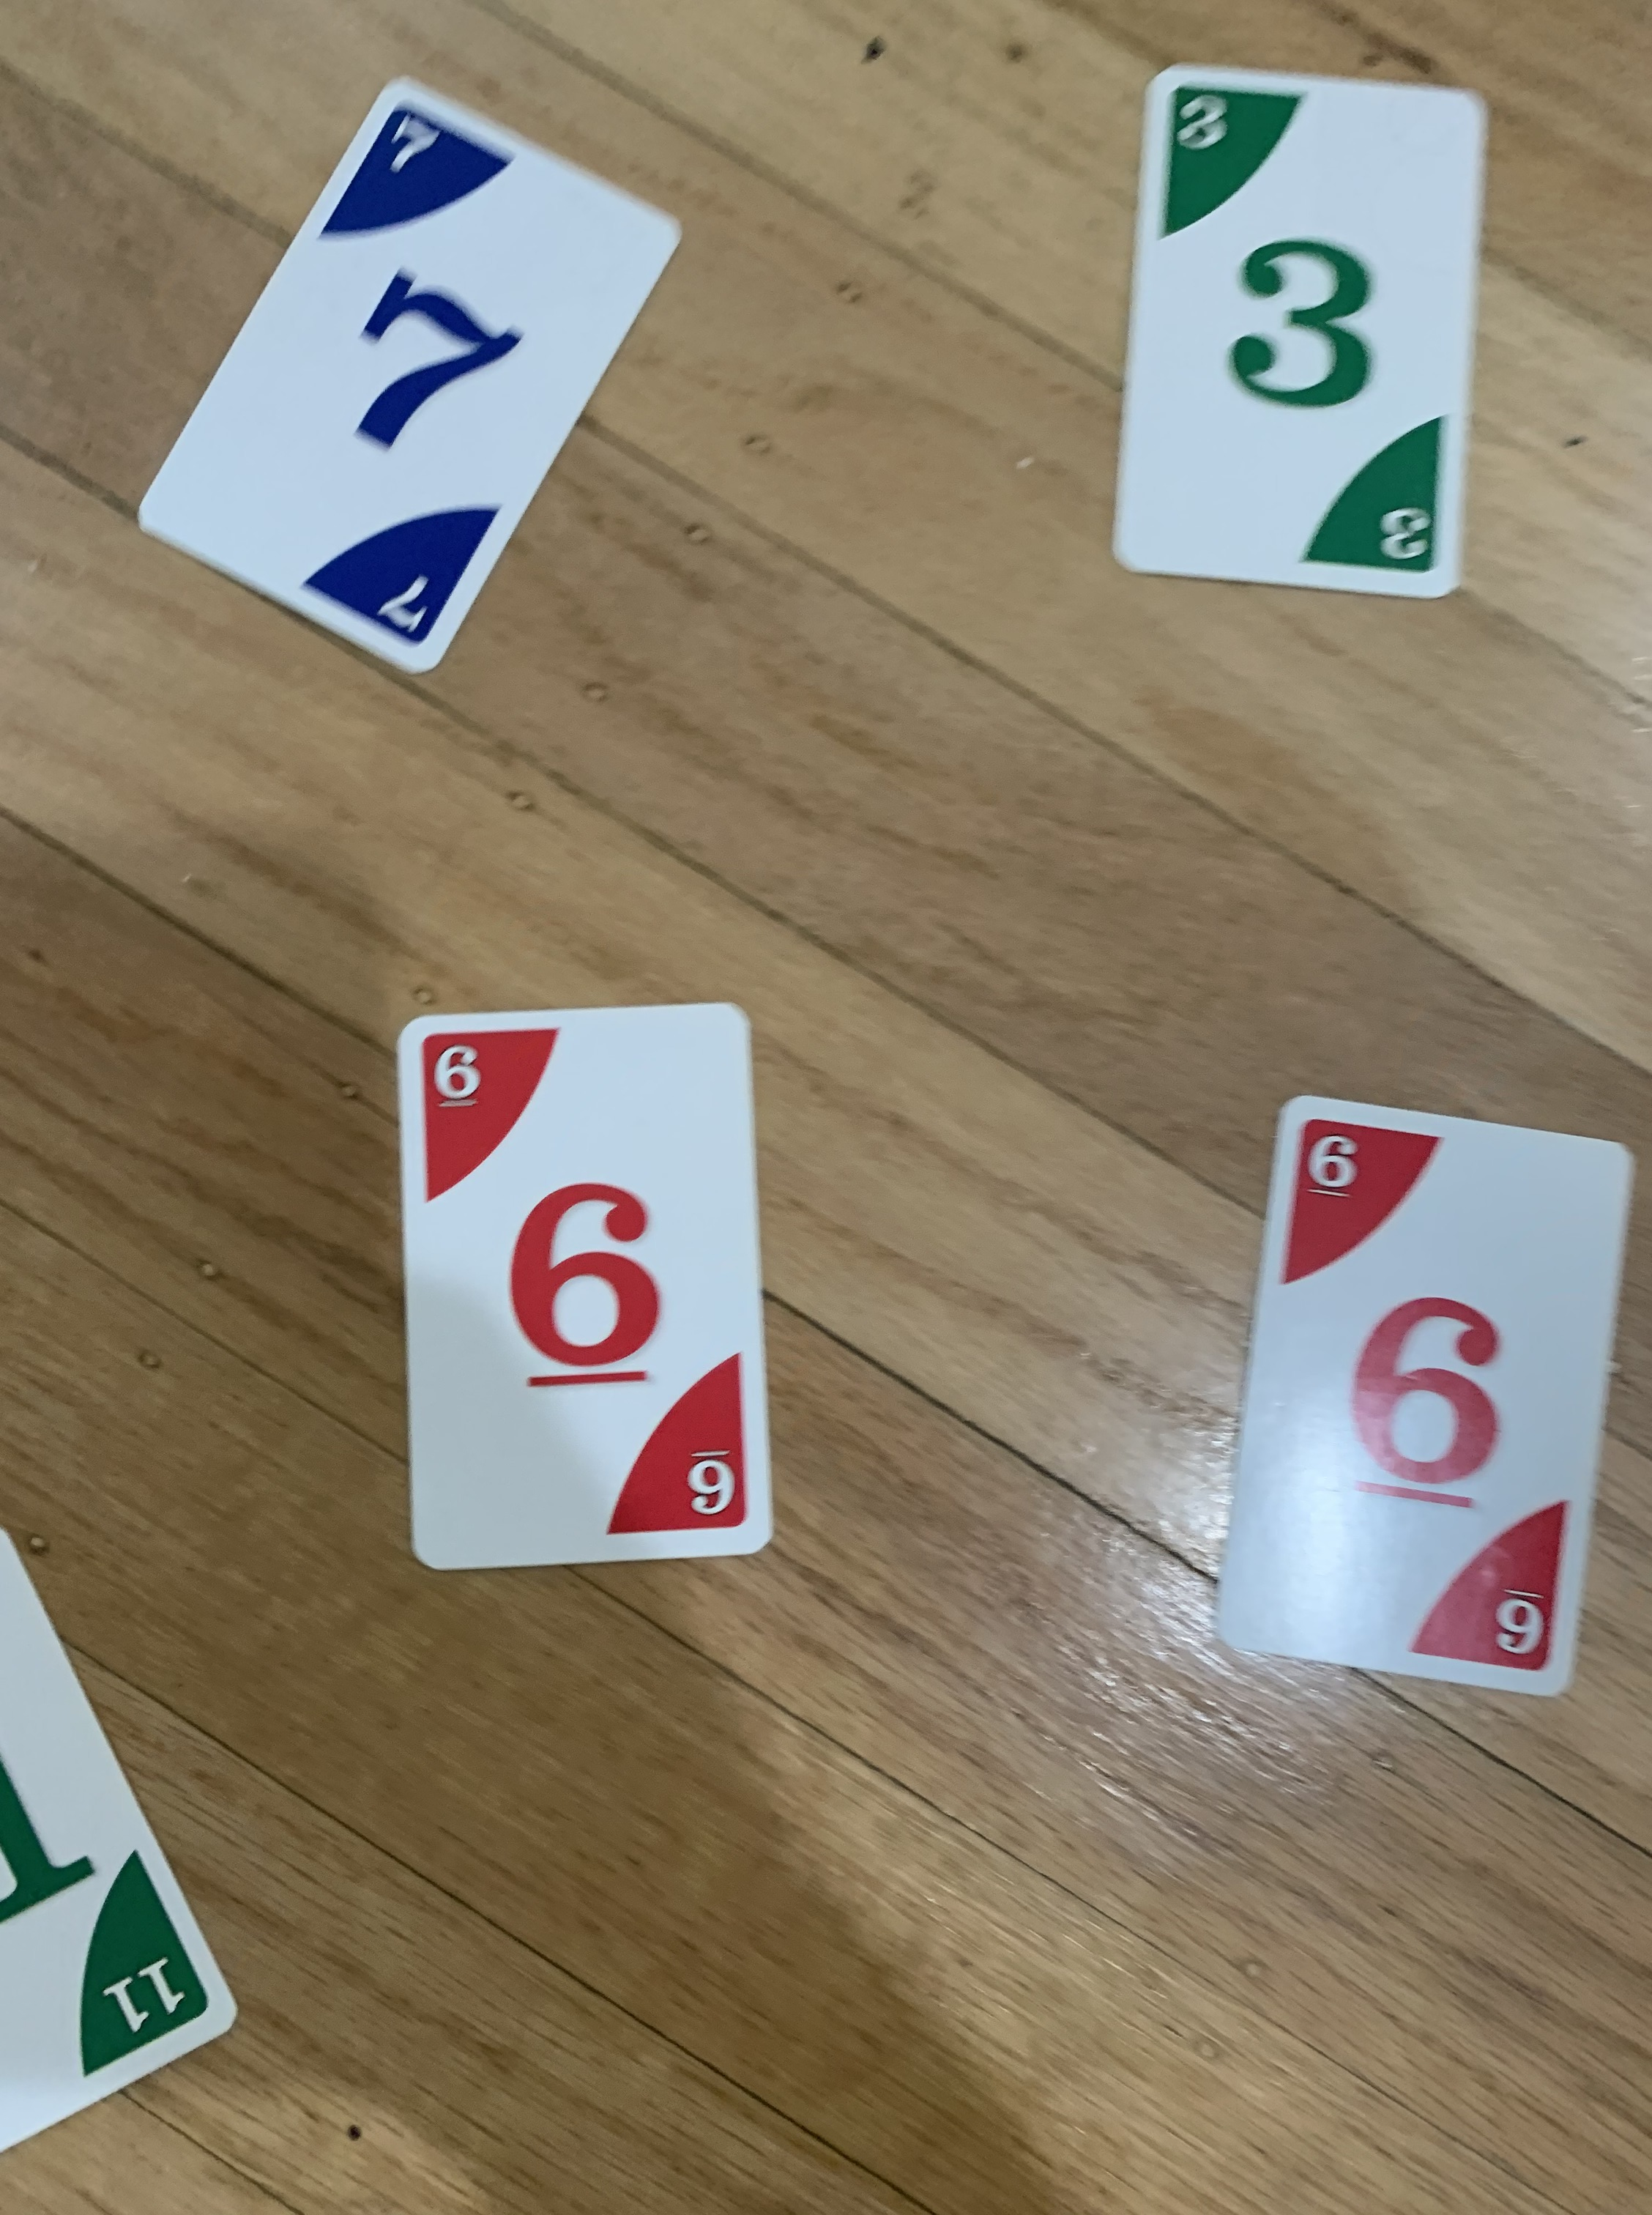seven: (130, 57, 698, 663)
six: (1196, 1087, 1652, 1701), (387, 989, 784, 1585)
three: (1097, 47, 1503, 615)
